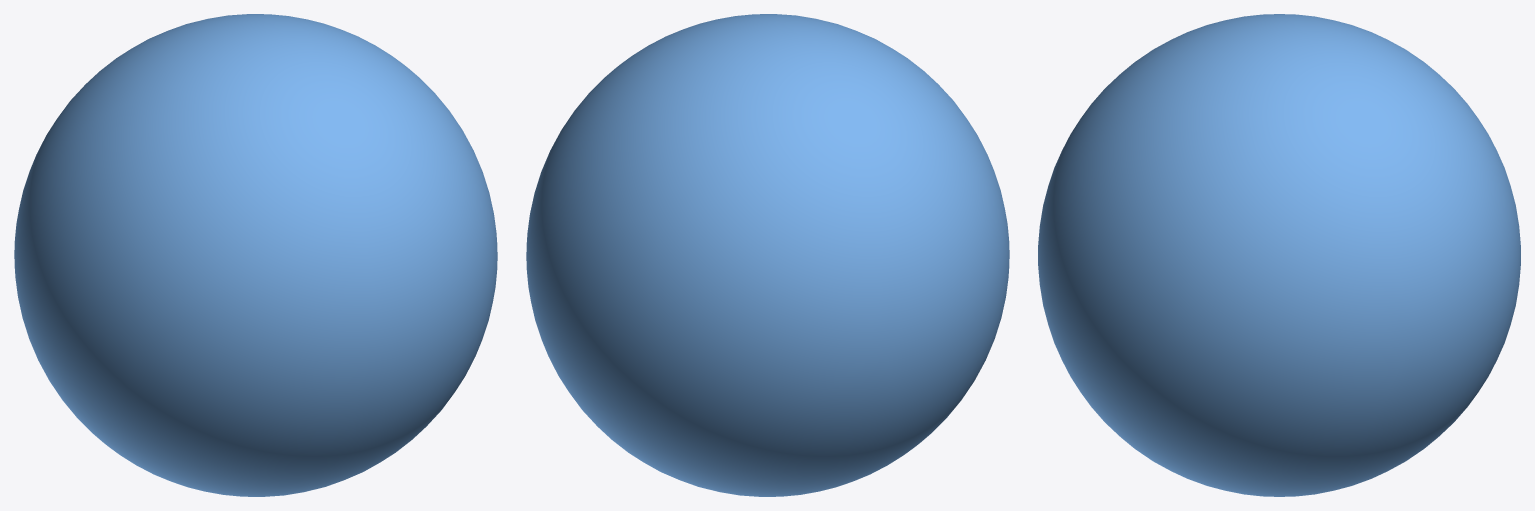
3 renders of one model, left to right at view 1: azimuth 30°, elevation 25°; view 2: azimuth 150°, elevation 25°; view 3: azimuth 270°, elevation 25°, orthographic.
Parts seen in each view (by area): view 1: Sphere; view 2: Sphere; view 3: Sphere.
Boxes of the visible parts, box(x1,y1,x2,y2) form: Sphere: box(14, 14, 497, 496); Sphere: box(526, 14, 1009, 496); Sphere: box(1038, 14, 1520, 496).
Bounding box in the file's own units: 0.9989 × 0.9989 × 0.9989.
